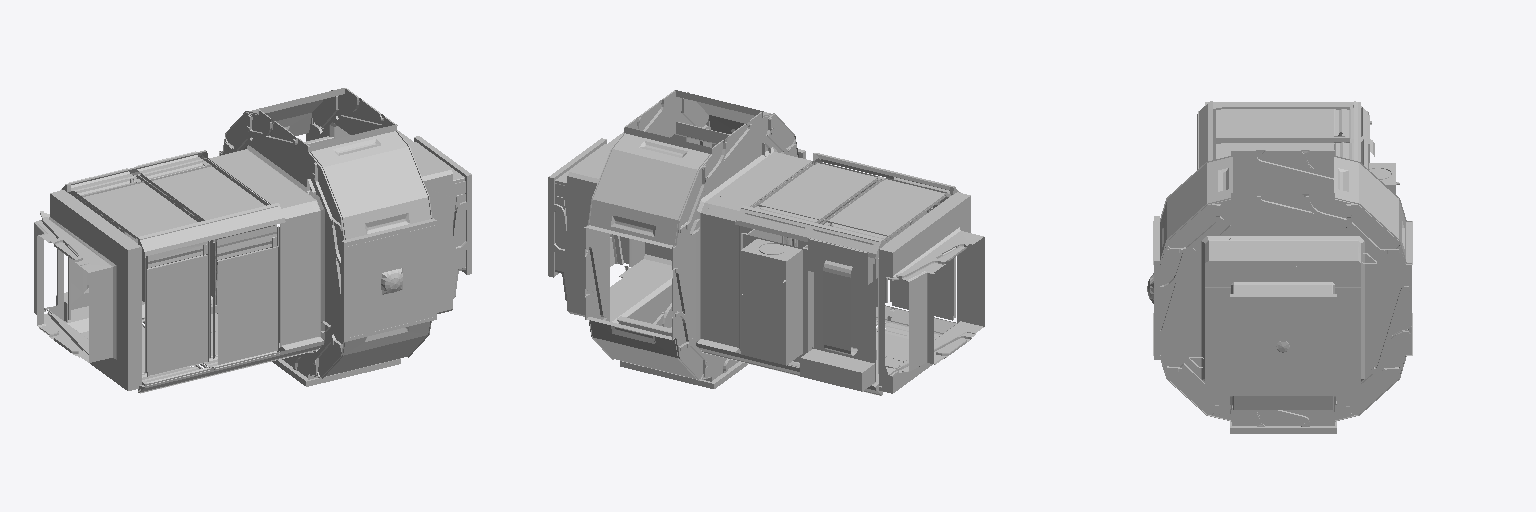
Rendered from node_3_minimal.obj.
The picture shows the model from 3 angles: view 1: azimuth 30°, elevation 25°; view 2: azimuth 150°, elevation 25°; view 3: azimuth 270°, elevation 25°; orthographic projection.
Parts seen in each view (by area): view 1: part3, part4, part0, part5, Cube.002, Cube.001, Cube; view 2: part4, part5, part0, part3, Cube.003, Cube.001, Cube; view 3: part4, part0, Cube.001, part3, part5, Cube, Cube.002.
Part boxes in pixels (bbox=[...]): part3: bbox=[56, 151, 281, 391]; part4: bbox=[219, 88, 434, 379]; part0: bbox=[34, 125, 466, 390]; part5: bbox=[60, 150, 324, 393]; Cube.002: bbox=[341, 218, 436, 341]; Cube.001: bbox=[414, 136, 471, 274]; Cube: bbox=[272, 358, 400, 386]; part4: bbox=[584, 90, 798, 381]; part5: bbox=[696, 153, 960, 395]; part0: bbox=[554, 132, 984, 393]; part3: bbox=[739, 158, 956, 391]; Cube.003: bbox=[808, 227, 905, 284]; Cube.001: bbox=[548, 138, 606, 277]; Cube: bbox=[620, 327, 747, 388]; part4: bbox=[1153, 150, 1412, 426]; part0: bbox=[1147, 102, 1371, 413]; Cube.001: bbox=[1230, 294, 1336, 395]; part3: bbox=[1216, 107, 1374, 164]; part5: bbox=[1197, 101, 1399, 193]; Cube: bbox=[1230, 421, 1336, 433]; Cube.002: bbox=[1154, 216, 1159, 359].
Bounding box in the file's own units: 5.79 × 3.46 × 3.46.